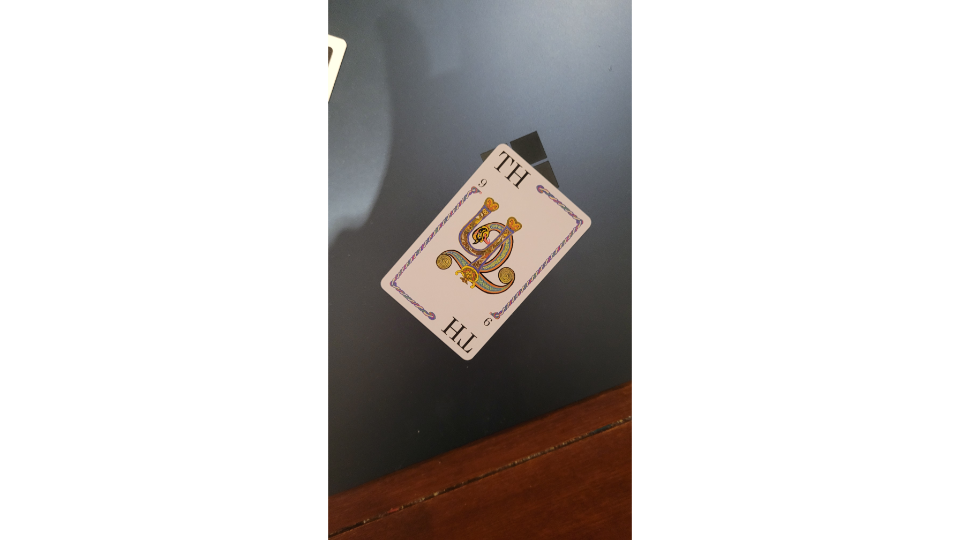TH: (377, 140, 593, 363)
